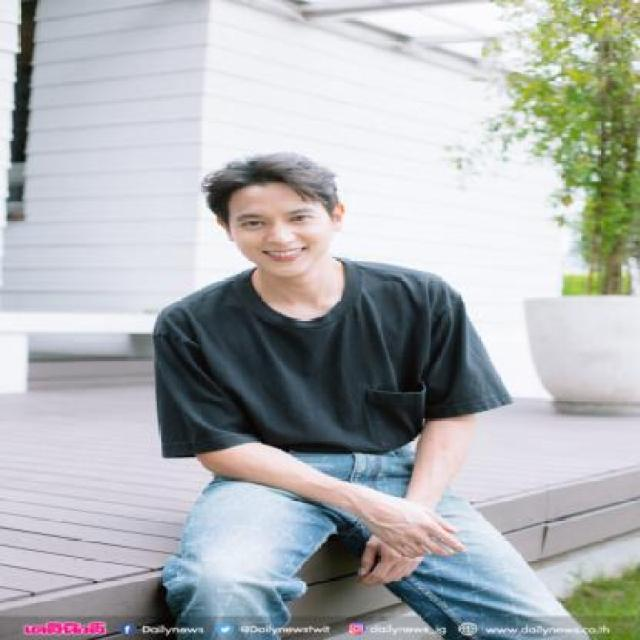sem_oculos: (212, 208, 352, 232)
